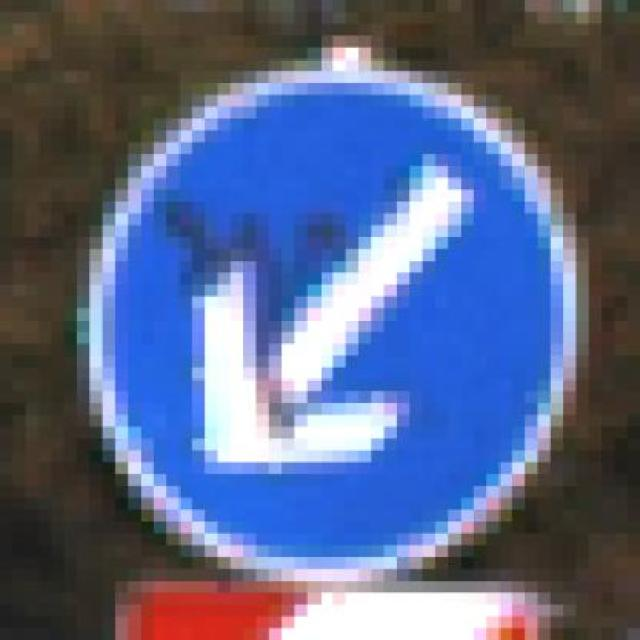Keep-Left: (51, 48, 602, 580)
